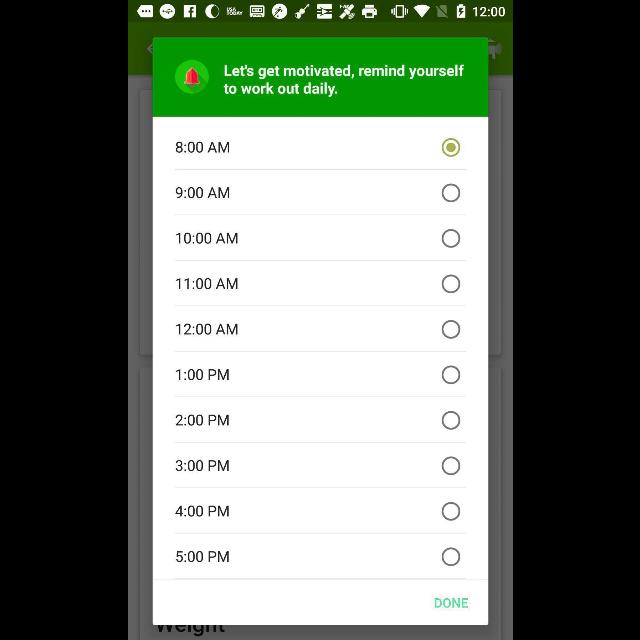checkbox: (441, 228, 459, 248), (440, 275, 460, 293), (440, 320, 460, 338), (440, 366, 460, 384), (440, 411, 460, 429), (441, 456, 459, 476), (440, 548, 460, 566), (441, 138, 459, 156), (441, 184, 459, 202), (441, 502, 459, 520)
icon: (174, 60, 208, 94)
panel: (152, 38, 488, 624)
text: (222, 64, 463, 98), (175, 232, 237, 244), (175, 278, 237, 290), (175, 323, 237, 335), (175, 141, 229, 153), (175, 414, 229, 426), (175, 460, 229, 472), (176, 551, 228, 563), (175, 188, 229, 198), (175, 506, 229, 516), (176, 370, 228, 380), (434, 598, 468, 608)
textbutton: (434, 598, 468, 608)
uppertaskbar: (128, 1, 512, 23)
